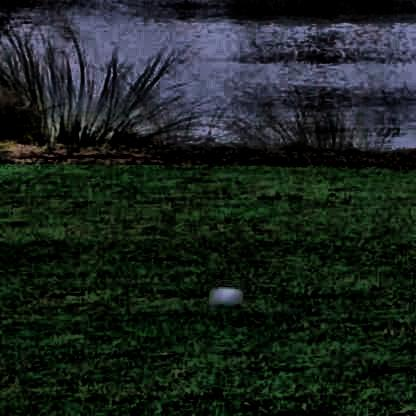golfball: (207, 283, 241, 303)
